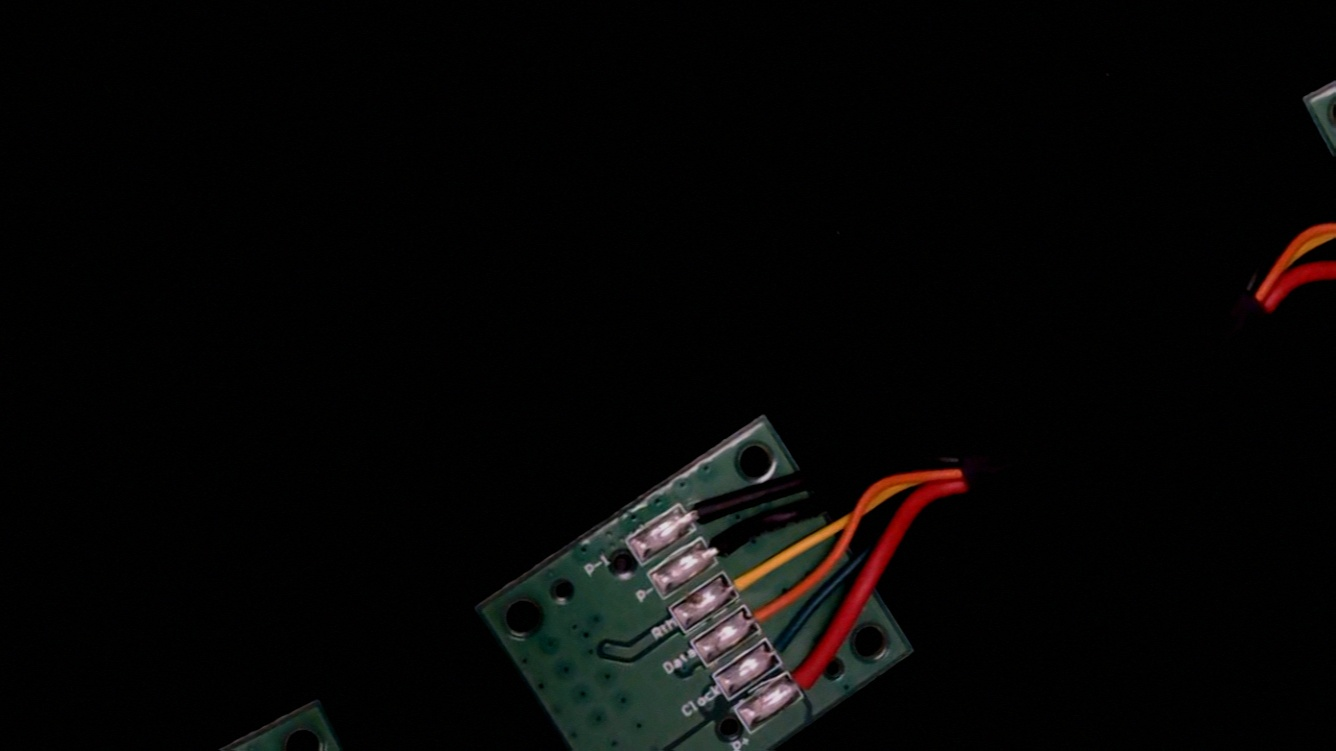Black: (690, 510, 766, 573)
Black1: (668, 478, 741, 540)
Green: (752, 616, 820, 675)
Orange: (734, 589, 791, 641)
Red: (776, 645, 846, 705)
Yellow: (710, 547, 784, 612)
